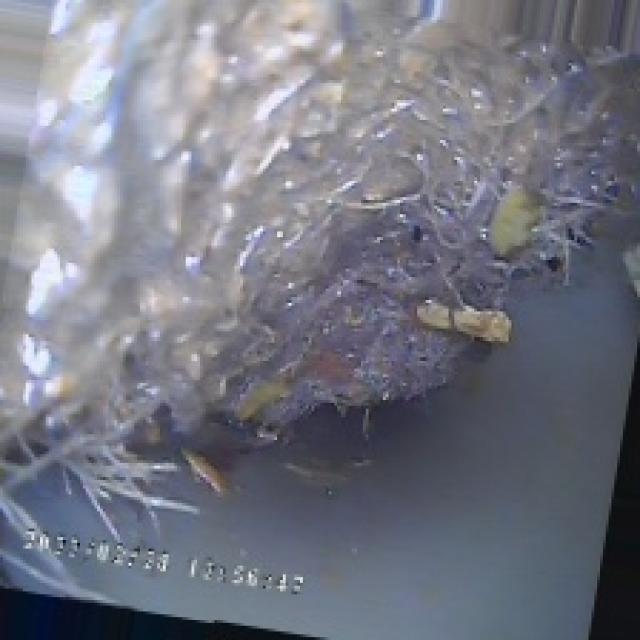sluge accumulation: (43, 20, 588, 520)
